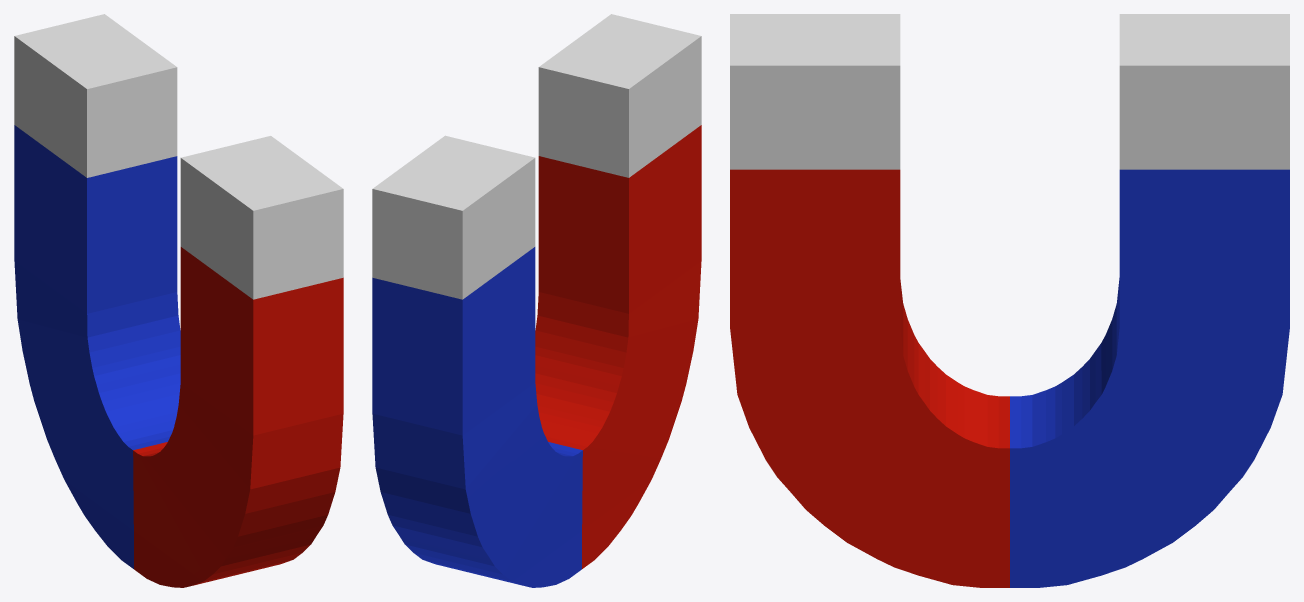
File: red-blue-magnet.fbx
3 views of the same model, side by side, from view 1: azimuth 30°, elevation 25°; view 2: azimuth 150°, elevation 25°; view 3: azimuth 270°, elevation 25° (orthographic). The views are drawn at different scales.
Visible parts, largest first — view 1: Cube; view 2: Cube; view 3: Cube.
Boxes of the visible parts, x1=… form: Cube: x1=14, y1=14, x2=343, y2=587; Cube: x1=372, y1=14, x2=701, y2=587; Cube: x1=730, y1=14, x2=1289, y2=587.
Bounding box in the file's own units: 50.1 × 235 × 228.
